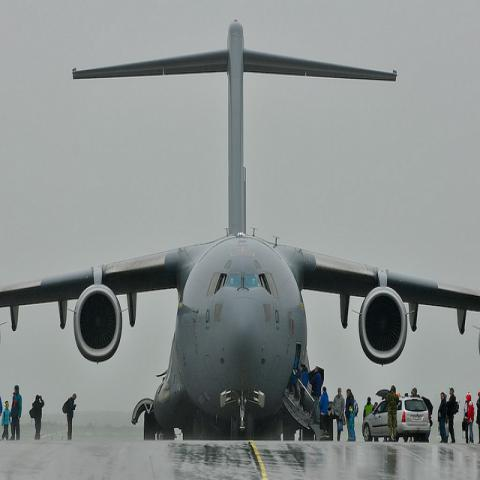car: (362, 393, 431, 442)
